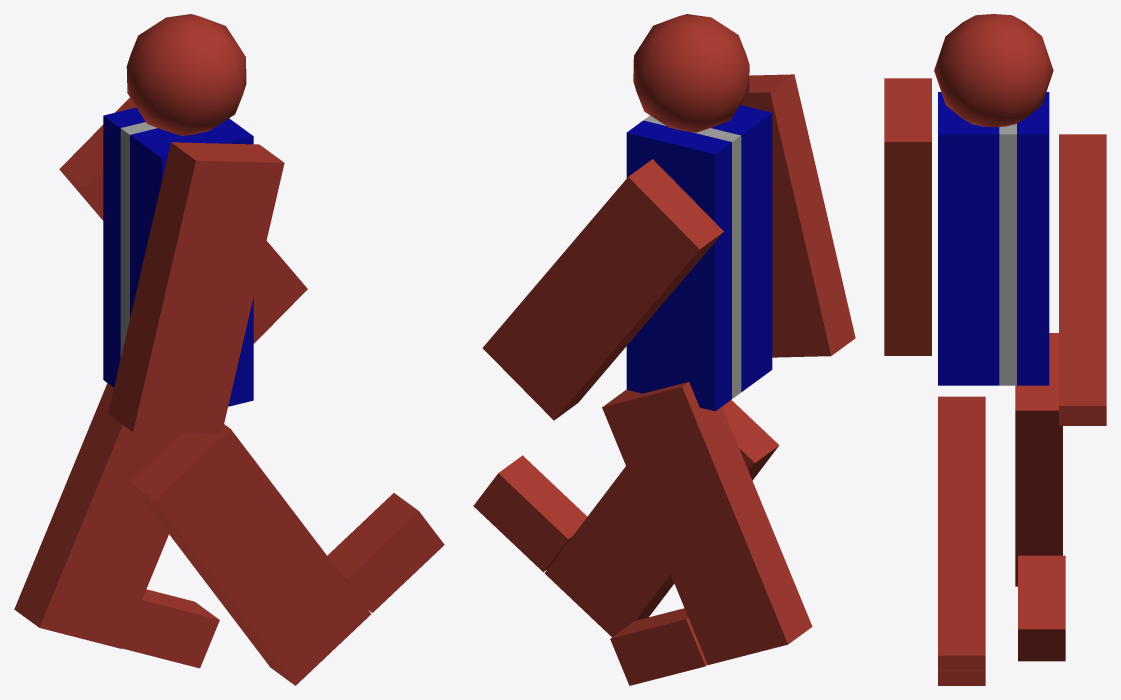
File: player_000026.obj
3 renders of one model, left to right at view 1: azimuth 30°, elevation 25°; view 2: azimuth 150°, elevation 25°; view 3: azimuth 270°, elevation 25°, orthographic. The views are drawn at different scales.
Parts seen in each view (by area): view 1: Cube.005, Cube.001, Cube.002, Cube, Icosphere, Cube.003, Cube.006, Cube.004; view 2: Cube.002, Cube, Cube.006, Cube.005, Cube.001, Icosphere, Cube.003, Cube.004; view 3: Cube, Cube.006, Cube.005, Cube.001, Icosphere, Cube.002, Cube.004, Cube.003.
Boxes of the visible parts, bbox=[...] form: Cube.005: bbox=[108, 142, 284, 434]; Cube.001: bbox=[130, 424, 371, 685]; Cube.002: bbox=[14, 383, 180, 648]; Cube: bbox=[103, 107, 253, 406]; Icosphere: bbox=[126, 14, 246, 135]; Cube.003: bbox=[327, 493, 444, 612]; Cube.006: bbox=[59, 98, 307, 343]; Cube.004: bbox=[122, 589, 219, 668]; Cube.002: bbox=[602, 382, 812, 664]; Cube: bbox=[626, 105, 772, 411]; Cube.006: bbox=[482, 159, 723, 420]; Cube.005: bbox=[740, 74, 855, 357]; Cube.001: bbox=[544, 400, 779, 636]; Icosphere: bbox=[633, 14, 749, 132]; Cube.003: bbox=[473, 455, 587, 572]; Cube.004: bbox=[610, 608, 707, 685]; Cube: bbox=[938, 92, 1049, 385]; Cube.006: bbox=[1059, 134, 1106, 425]; Cube.005: bbox=[884, 78, 931, 355]; Cube.001: bbox=[938, 396, 985, 685]; Icosphere: bbox=[934, 14, 1053, 127]; Cube.002: bbox=[1015, 333, 1062, 586]; Cube.004: bbox=[1018, 555, 1065, 661]; Cube.003: bbox=[938, 605, 985, 670].
Bounding box in the file's own units: 1.64 × 2.86 × 0.9137.
